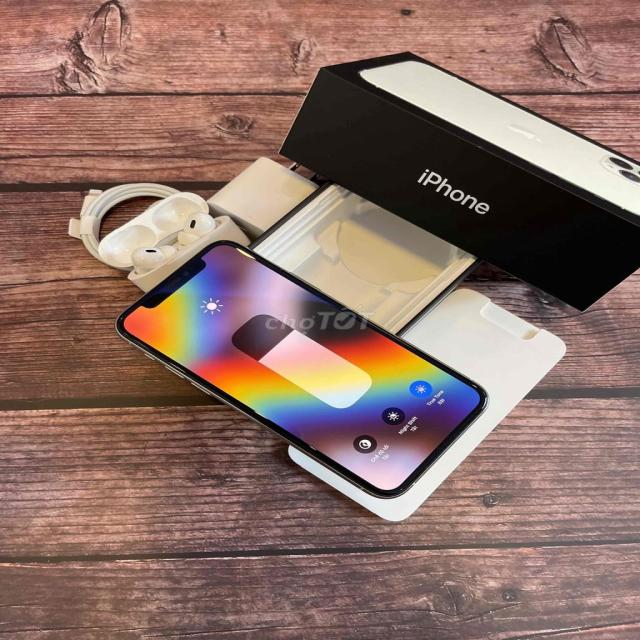gen_11: (107, 233, 493, 499)
